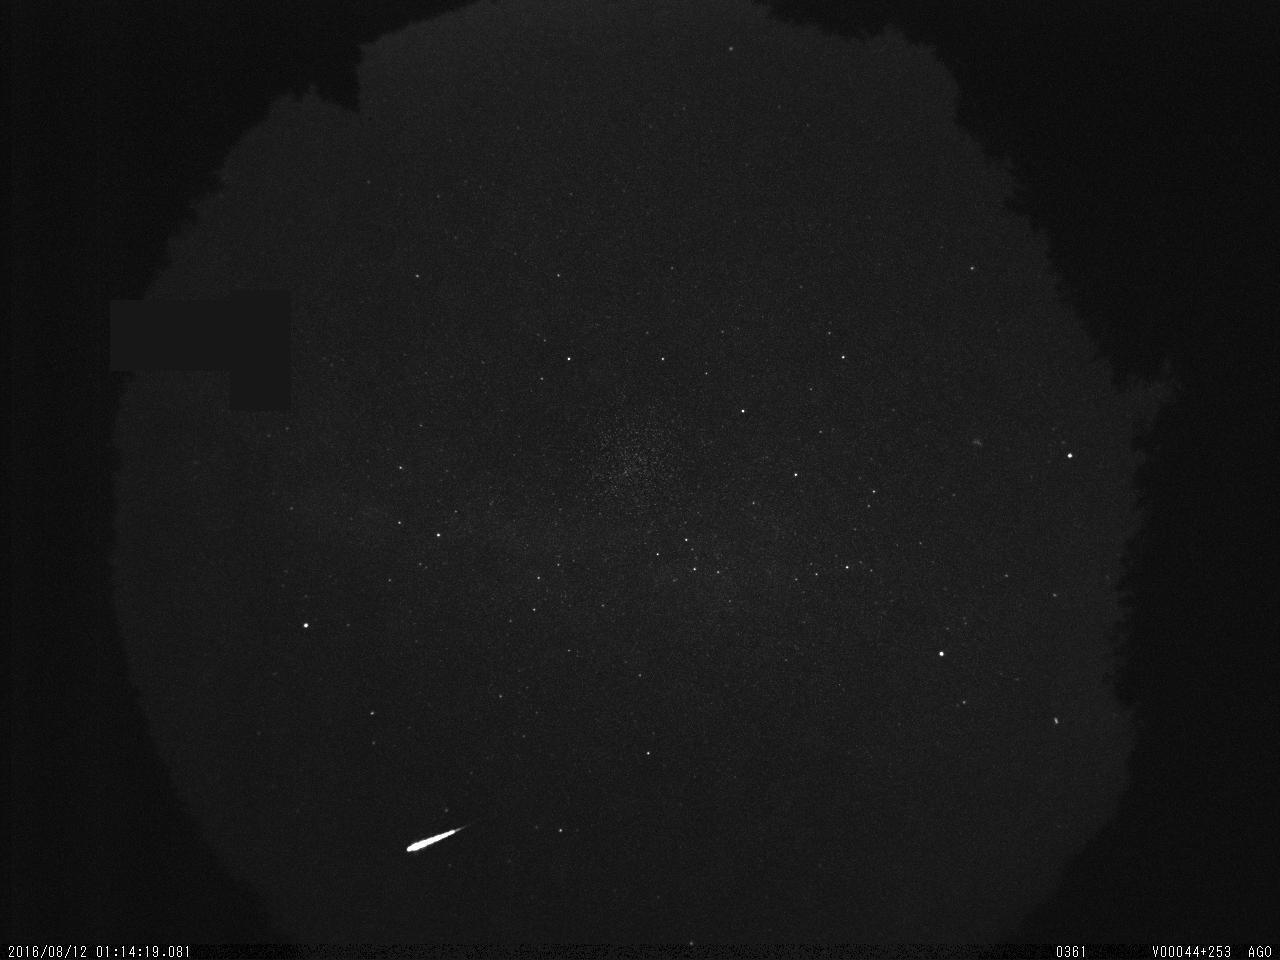meteor: (399, 822, 473, 861)
